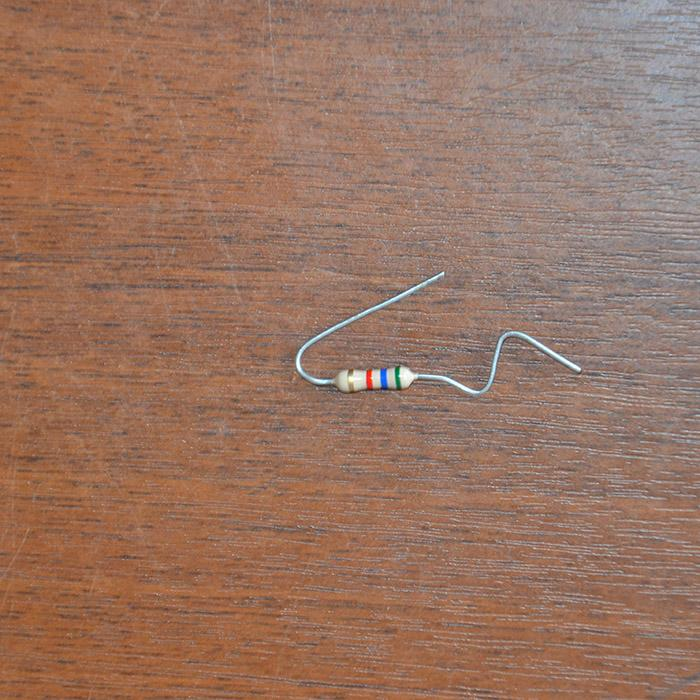resistor: (331, 364, 415, 393)
